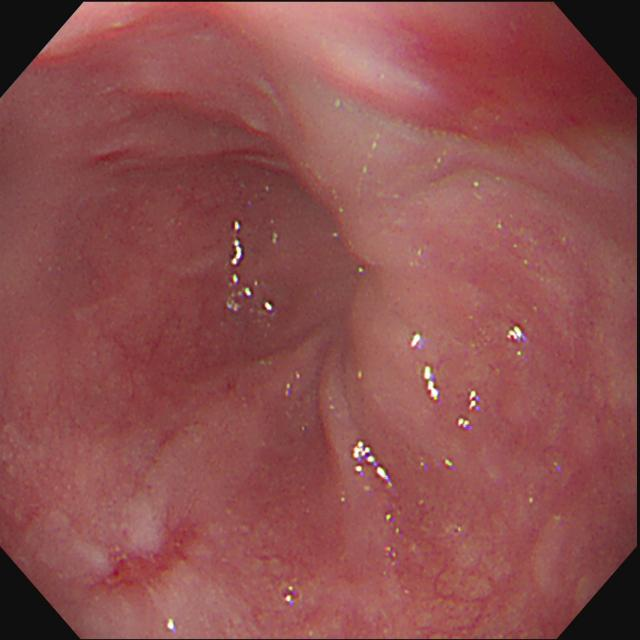D: (304, 3, 569, 153), (96, 514, 210, 594)
U: (227, 219, 253, 315), (411, 332, 442, 404), (352, 438, 396, 488), (456, 386, 481, 430), (504, 323, 529, 358), (264, 300, 276, 316)
